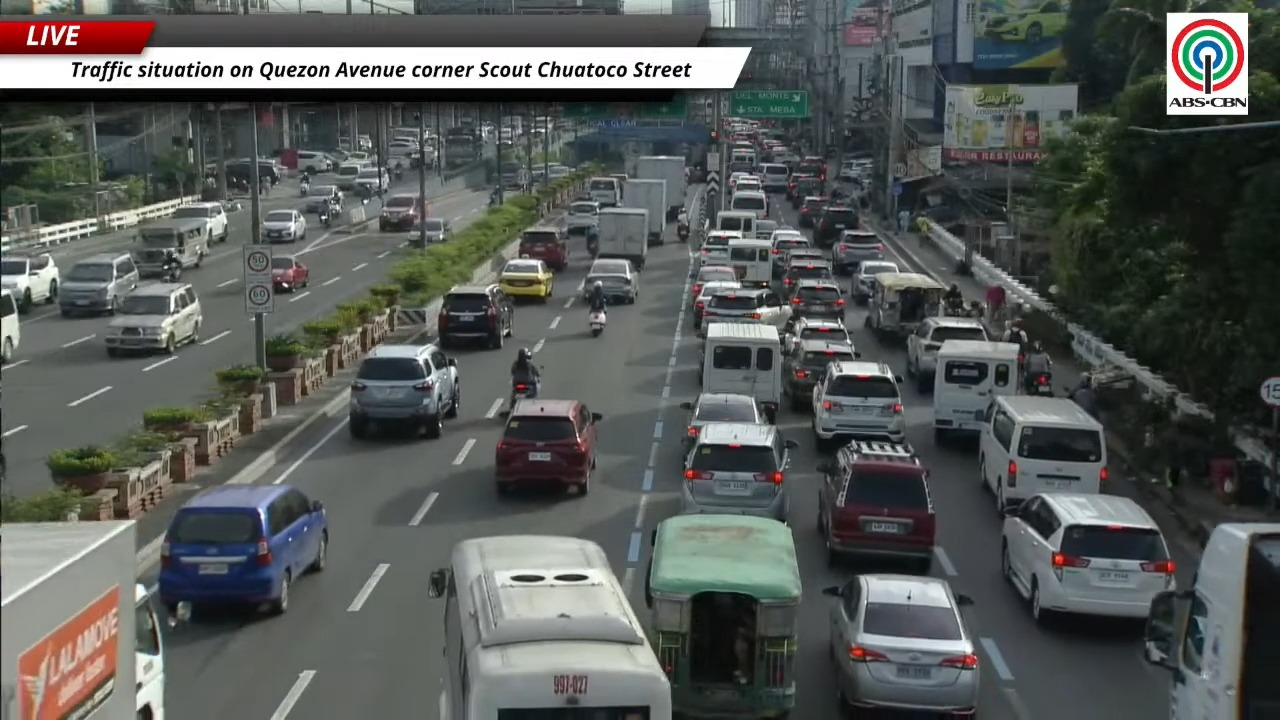bus: (428, 535, 670, 719)
car: (157, 484, 328, 616), (1002, 492, 1175, 622), (823, 574, 979, 717), (817, 440, 935, 573), (681, 422, 797, 521), (494, 398, 602, 496), (348, 344, 460, 438), (812, 360, 905, 449), (103, 283, 202, 356), (906, 316, 989, 391), (783, 335, 860, 410), (58, 251, 139, 317), (680, 392, 766, 451), (437, 283, 514, 348), (699, 288, 791, 331), (982, 0, 1067, 45), (0, 253, 58, 312), (583, 258, 640, 304), (168, 201, 228, 242), (783, 317, 853, 352), (692, 280, 741, 330), (498, 258, 553, 302), (518, 225, 570, 271), (831, 229, 884, 274), (790, 278, 845, 319), (783, 257, 834, 299), (851, 260, 899, 304), (689, 264, 737, 305), (813, 204, 858, 247), (770, 228, 810, 276), (378, 194, 423, 231), (699, 230, 742, 265), (261, 209, 306, 242), (0, 290, 20, 364), (407, 217, 451, 247), (271, 256, 308, 291), (565, 199, 599, 234), (783, 246, 826, 273), (304, 184, 343, 213), (790, 177, 824, 209), (785, 173, 812, 208), (355, 168, 389, 195), (798, 196, 827, 227), (297, 150, 335, 173), (760, 163, 789, 192), (797, 156, 826, 181), (755, 219, 780, 240), (727, 173, 756, 190), (344, 151, 371, 162)
motorcycle: (499, 381, 538, 417), (1026, 373, 1053, 396), (943, 297, 969, 317), (588, 310, 606, 336), (162, 262, 182, 283), (967, 300, 985, 318), (677, 223, 690, 242), (318, 208, 331, 227), (587, 236, 598, 258), (300, 179, 309, 196)
truck: (0, 520, 164, 719), (1144, 523, 1279, 719), (635, 155, 685, 221), (597, 207, 648, 269), (625, 179, 667, 244), (442, 126, 481, 168)
